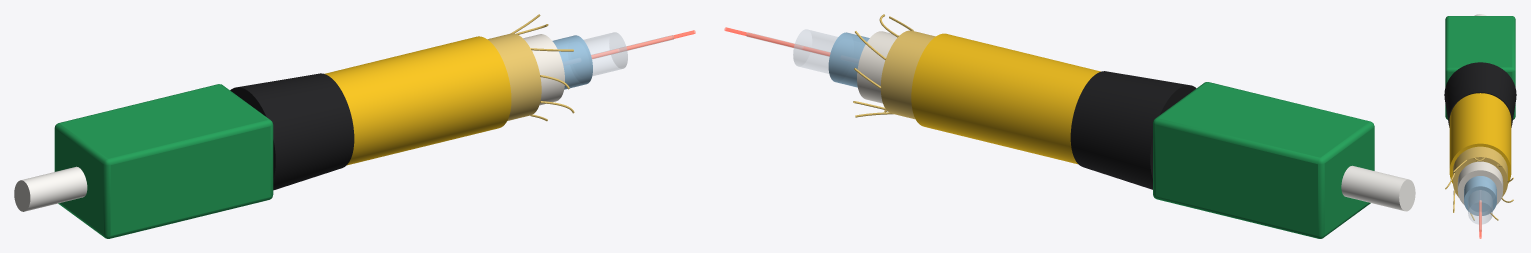
Rendered from fibre.glb.
3 renders of one model, left to right at view 1: azimuth 30°, elevation 25°; view 2: azimuth 150°, elevation 25°; view 3: azimuth 270°, elevation 25°, orthographic. The views are drawn at different scales.
Parts seen in each view (by area): view 1: corps_sc_apc, gaine_exterieure, manchon, fils_aramide, ferrule, tampon, revetement, gaine_optique, beam_coeur, coeur_verre; view 2: corps_sc_apc, gaine_exterieure, manchon, fils_aramide, ferrule, tampon, revetement, gaine_optique, beam_coeur, coeur_verre; view 3: corps_sc_apc, gaine_exterieure, manchon, revetement, fils_aramide, tampon, gaine_optique, beam_coeur, coeur_verre.
Boxes of the visible parts, box(x1,y1,x2,y2) form: corps_sc_apc: box(54, 84, 273, 238); gaine_exterieure: box(324, 36, 511, 165); manchon: box(230, 73, 354, 190); fils_aramide: box(487, 33, 541, 120); ferrule: box(14, 166, 87, 211); tampon: box(523, 34, 564, 105); revetement: box(552, 35, 592, 89); gaine_optique: box(584, 32, 627, 75); beam_coeur: box(591, 30, 695, 58); coeur_verre: box(591, 35, 673, 59); corps_sc_apc: box(1153, 82, 1374, 238); gaine_exterieure: box(911, 33, 1100, 164); manchon: box(1070, 71, 1196, 189); fils_aramide: box(880, 30, 935, 119); ferrule: box(1341, 165, 1415, 211); tampon: box(857, 31, 899, 103); revetement: box(828, 32, 869, 87); gaine_optique: box(793, 29, 837, 73); beam_coeur: box(724, 27, 830, 55); coeur_verre: box(746, 32, 830, 56); corps_sc_apc: box(1445, 16, 1515, 119); gaine_exterieure: box(1449, 93, 1511, 183); manchon: box(1444, 62, 1516, 127); revetement: box(1464, 176, 1496, 215); fils_aramide: box(1453, 146, 1507, 197); tampon: box(1457, 161, 1503, 204); gaine_optique: box(1468, 190, 1492, 224); beam_coeur: box(1479, 201, 1481, 238); coeur_verre: box(1479, 200, 1481, 231).
Bounding box in the file's own units: 248 × 35 × 35.
